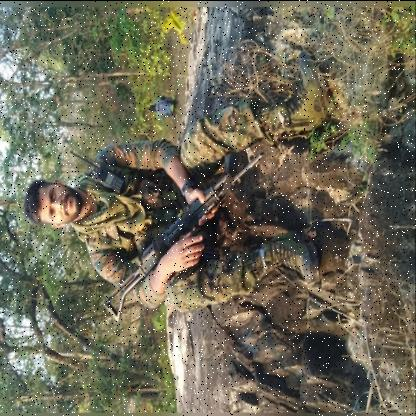rifle: (100, 144, 266, 324)
